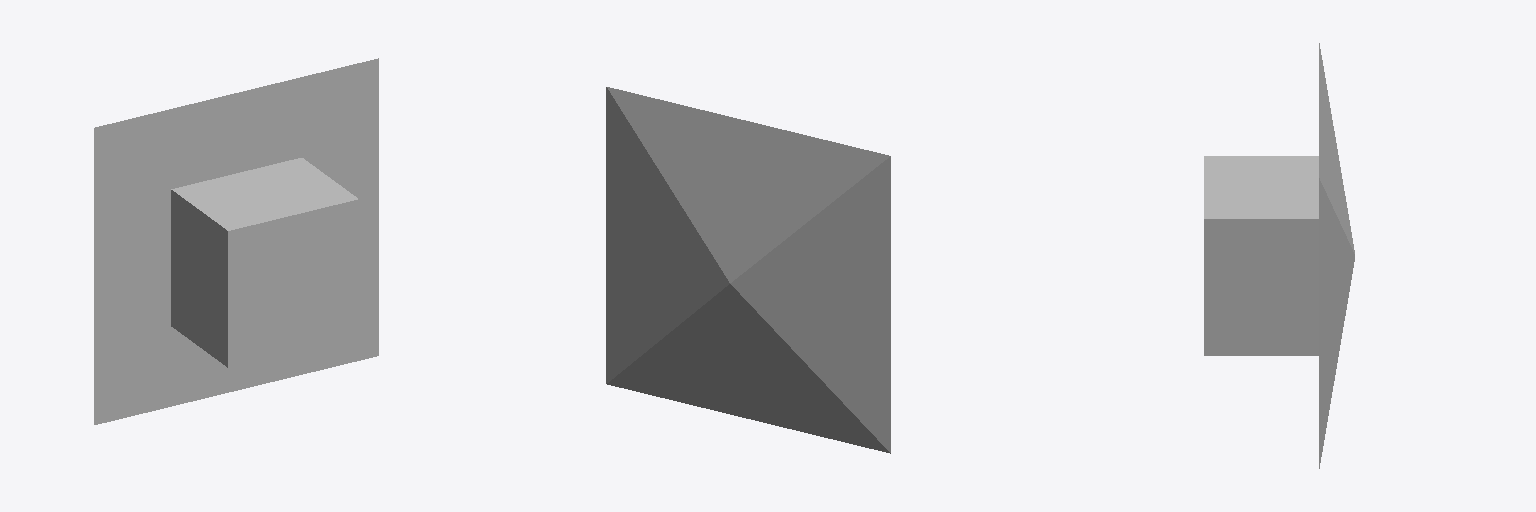
Rendered from arrow.obj.
The picture shows the model from 3 angles: view 1: azimuth 30°, elevation 25°; view 2: azimuth 150°, elevation 25°; view 3: azimuth 270°, elevation 25°; orthographic projection.
Visible parts, largest first — view 1: Cube; view 2: Cube; view 3: Cube.
Boxes of the visible parts, box(x1,y1,x2,y2) form: Cube: box(94, 58, 378, 424); Cube: box(606, 87, 890, 453); Cube: box(1204, 43, 1354, 468).
Bounding box in the file's own units: 4.35 × 4.35 × 2.